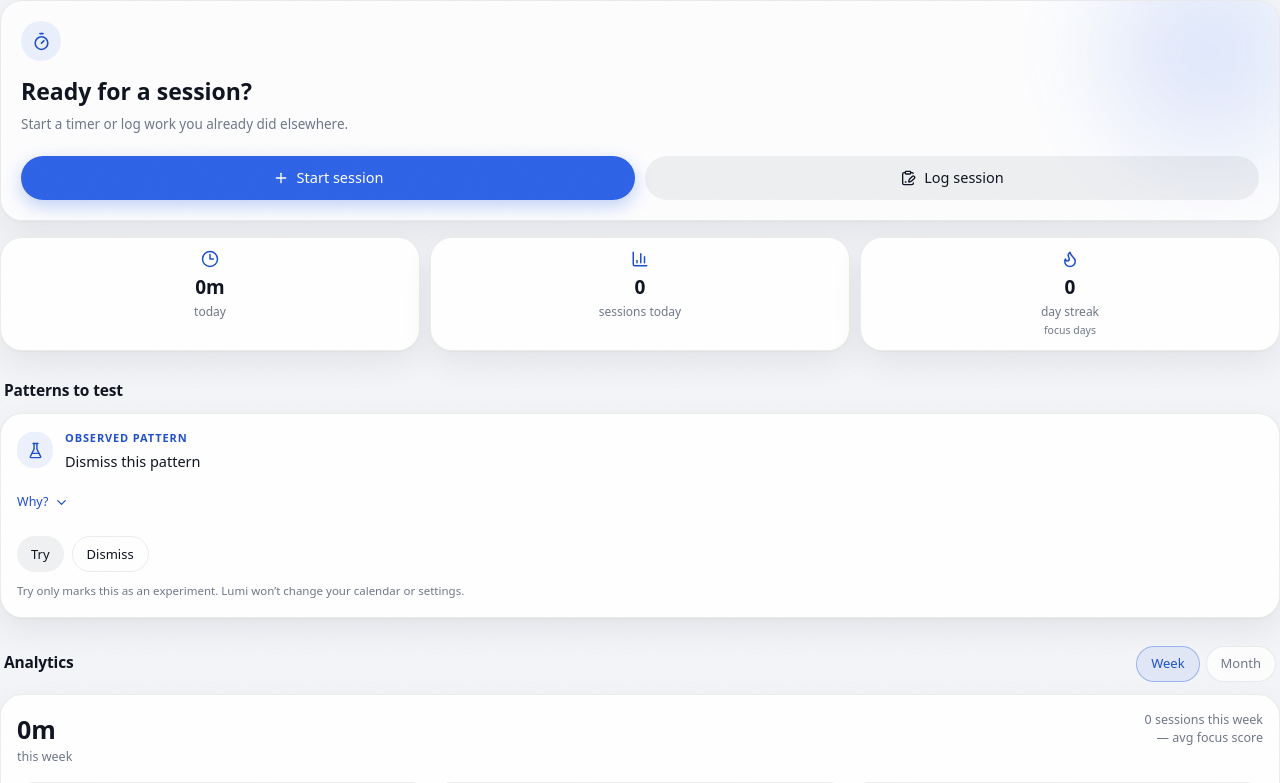
FocusPage › dismisses an insight from its isolated section
Click the button "Dismiss".
click(110, 554)  # box x1=72 y1=536 x2=149 y2=572
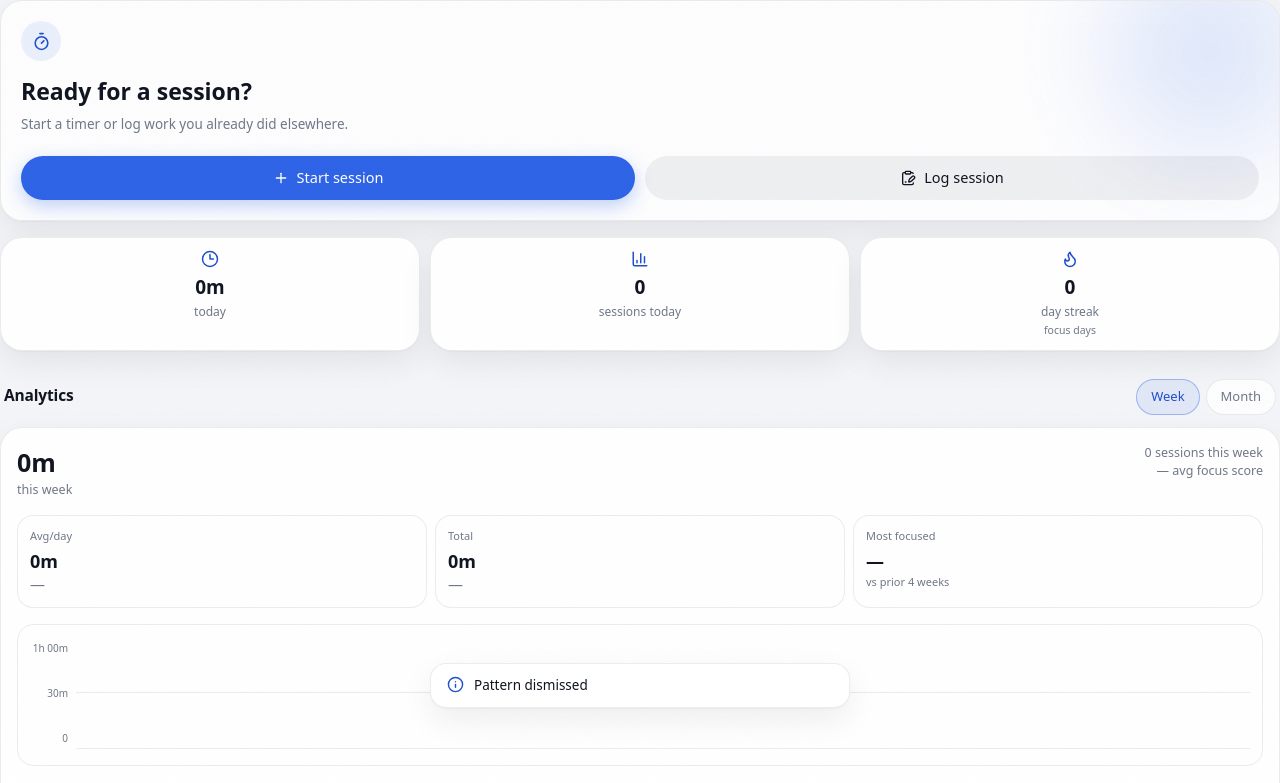
Now the text "Dismiss this pattern" is gone
Now the heading "Patterns to test" is gone
